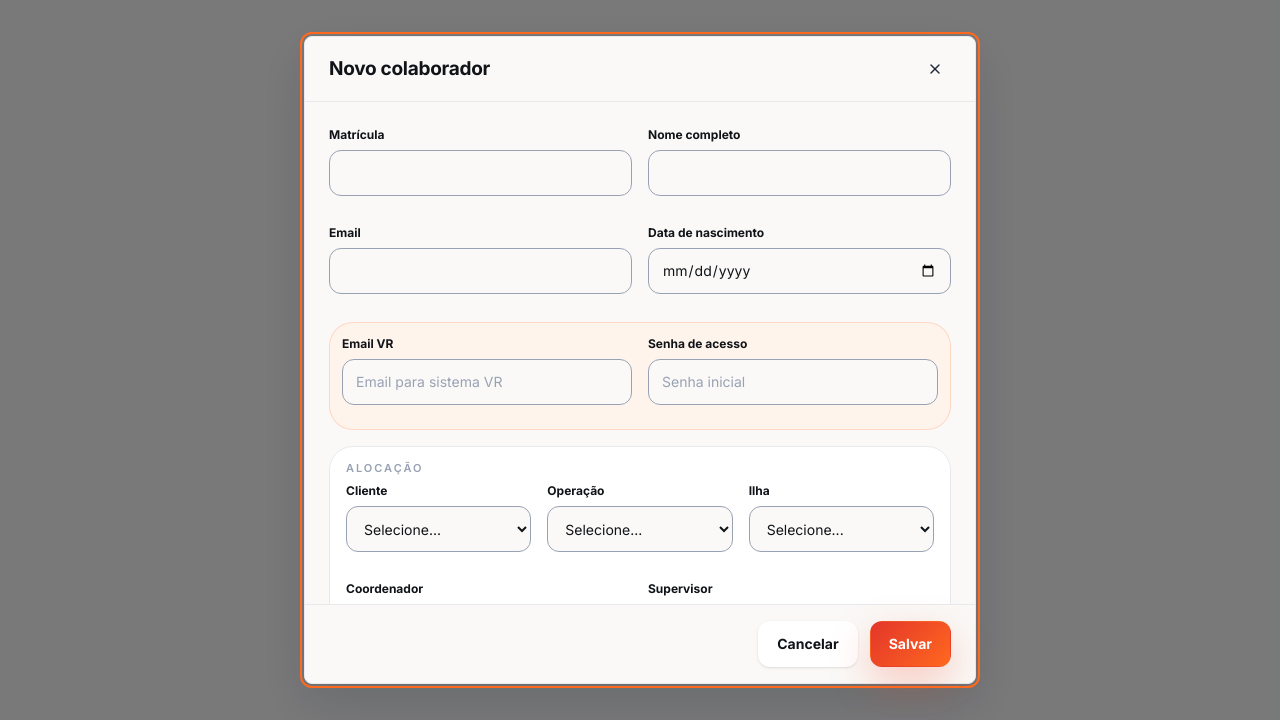
CollaboratorFormModal › preenche cliente, operação, coordenador e supervisor ao selecionar a ilha
The image size is (1280, 720).
Step 1. Select "Ilha 01" in the dropdown labelled "Ilha" → (841, 529), box [749,506,934,552]
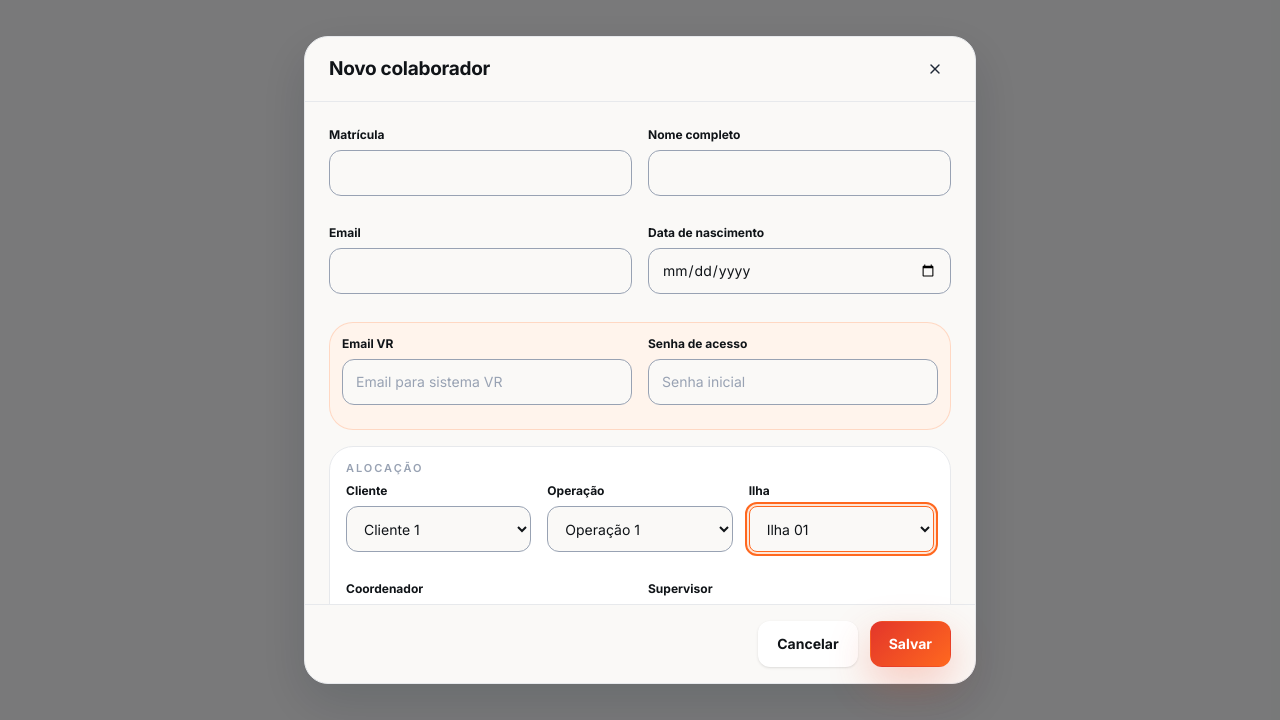
Now the dropdown labelled "Cliente" shows "Cliente 1", box [346,506,531,552]
Now the dropdown labelled "Operação" shows "Operação 1", box [547,506,733,552]
